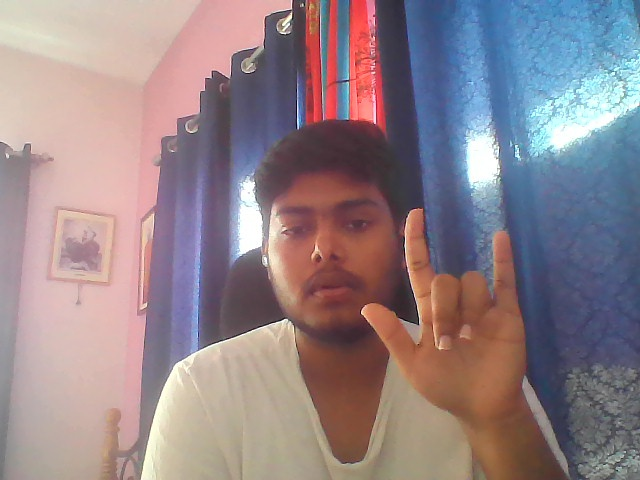I Love You: (354, 203, 550, 427)
